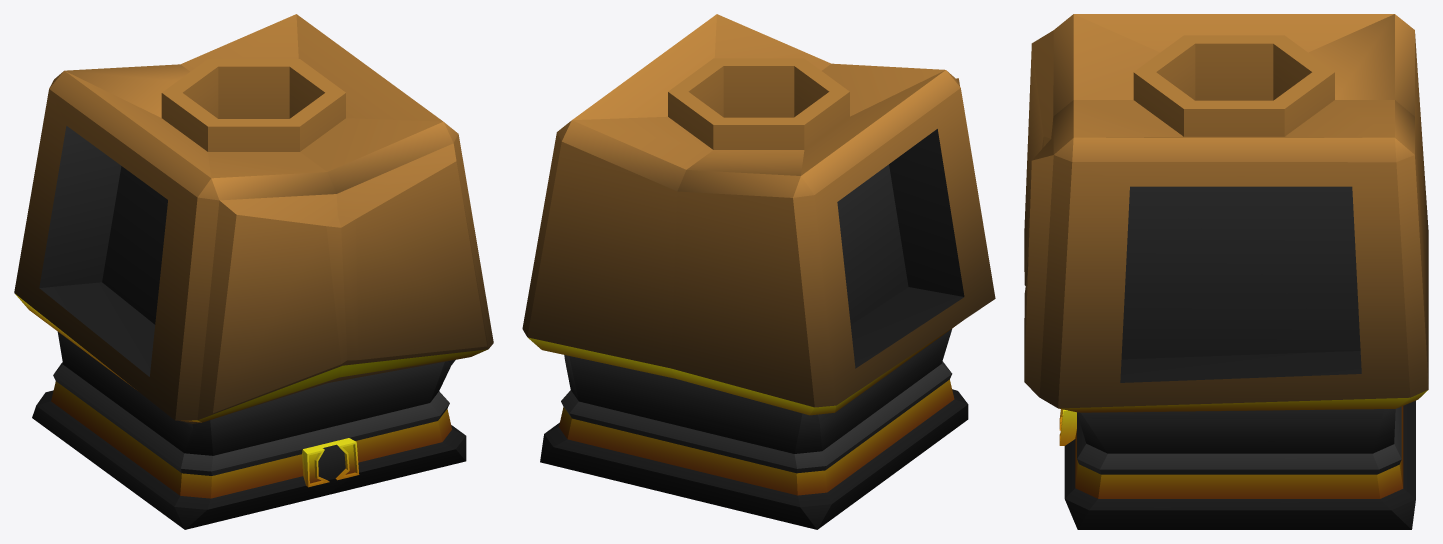
The model's file is armor_2.fbx.
3 views of the same model, side by side, from view 1: azimuth 30°, elevation 25°; view 2: azimuth 150°, elevation 25°; view 3: azimuth 270°, elevation 25° (orthographic). The views are drawn at different scales.
Parts seen in each view (by area): view 1: armor_2; view 2: armor_2; view 3: armor_2.
Boxes of the visible parts, x1,y1,x2,y2 form: armor_2: (14,14,493,529); armor_2: (522,14,995,529); armor_2: (1024,14,1428,529).
Size of the model in its own units: 44.4 by 46.68 by 44.71.
